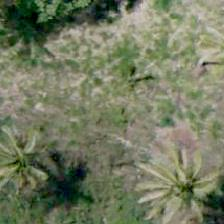Kelapa_Sawit: (139, 142, 223, 223), (0, 116, 64, 206)
